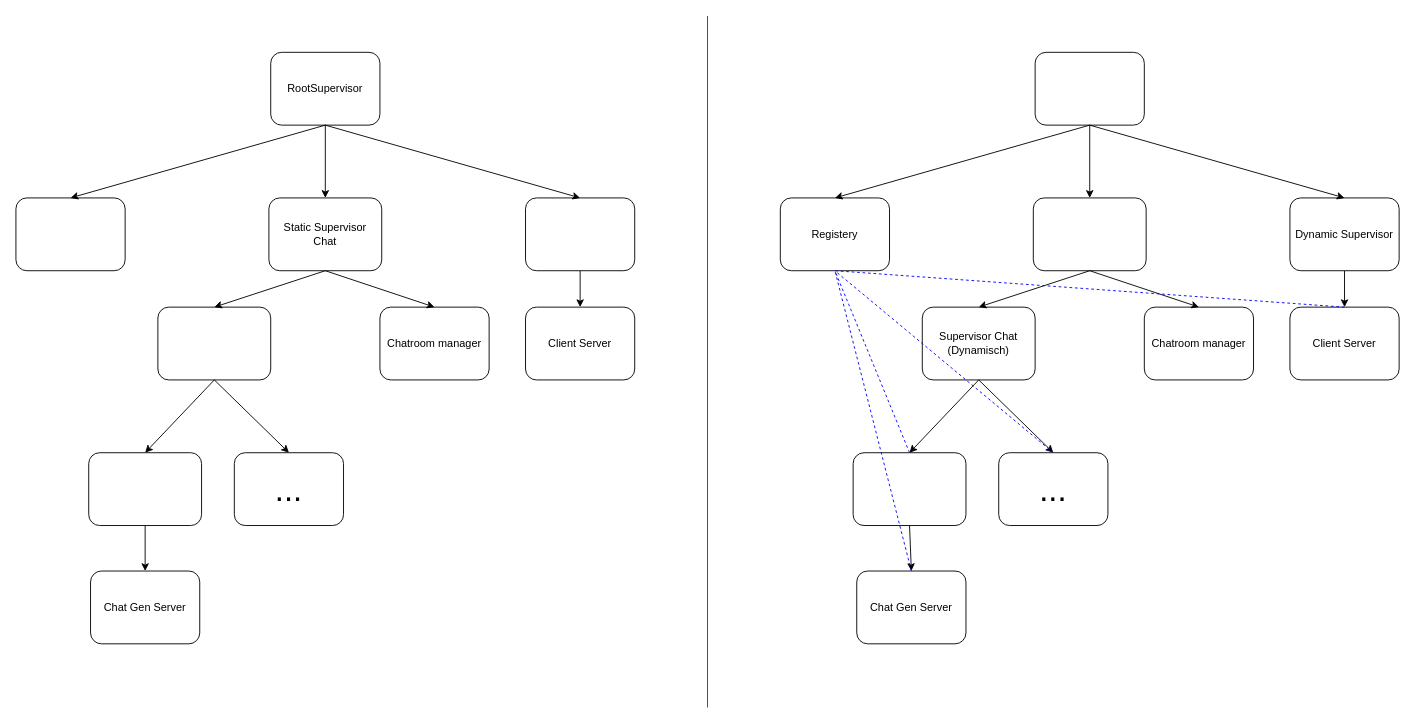
Image size: 1415x724. Some labels were removed from this diagram. Here are the shapes that lost their labels. From the top down, the box of each, then its label:
(1034, 51, 1144, 125): Root Supervisor
(15, 197, 125, 271): Registry.ChatRegistry
(525, 197, 635, 271): Dynamic Supervisor Client
(1032, 197, 1146, 271): Static Supervisor
(157, 306, 271, 380): Dynamic Supervisor Chat
(88, 452, 202, 526): Chatroom Supervisor
(852, 452, 966, 526): chatroomsup
